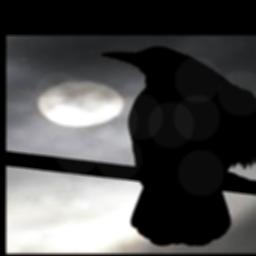Crow: (98, 45, 256, 247)
